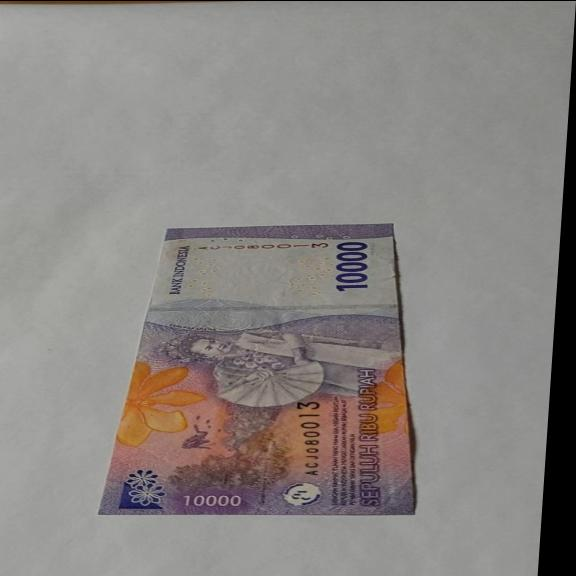Kertas: (95, 222, 435, 516), (331, 240, 372, 292)
